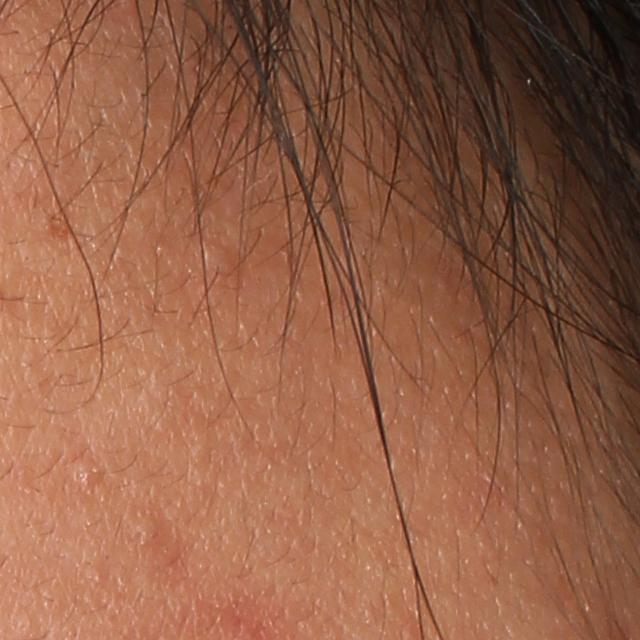comedo: (194, 238, 232, 277), (128, 514, 158, 553), (69, 458, 99, 486)
